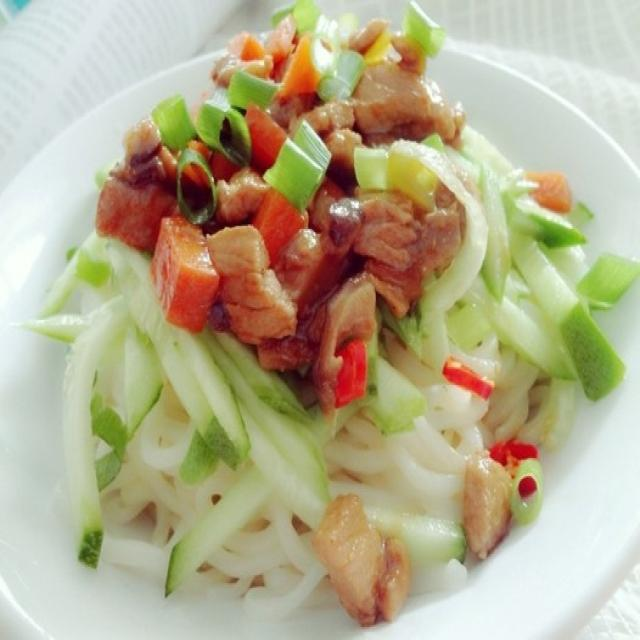面条主食: (28, 6, 629, 618)
